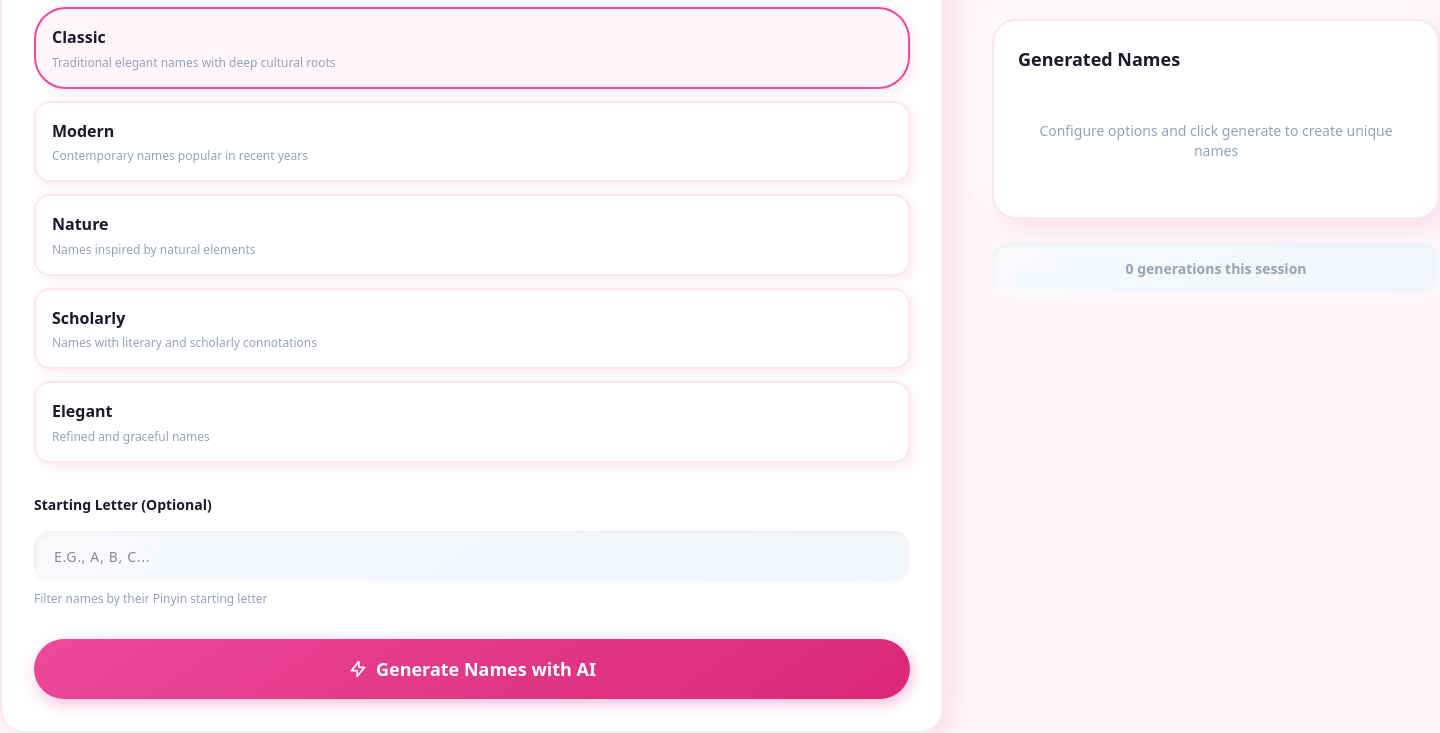
Test case: GeneratorForm › shows error message when API fails
(page scrolled)
Click the button "Generate Names with AI": (472, 669) [34,639,910,699]
(page scrolled)
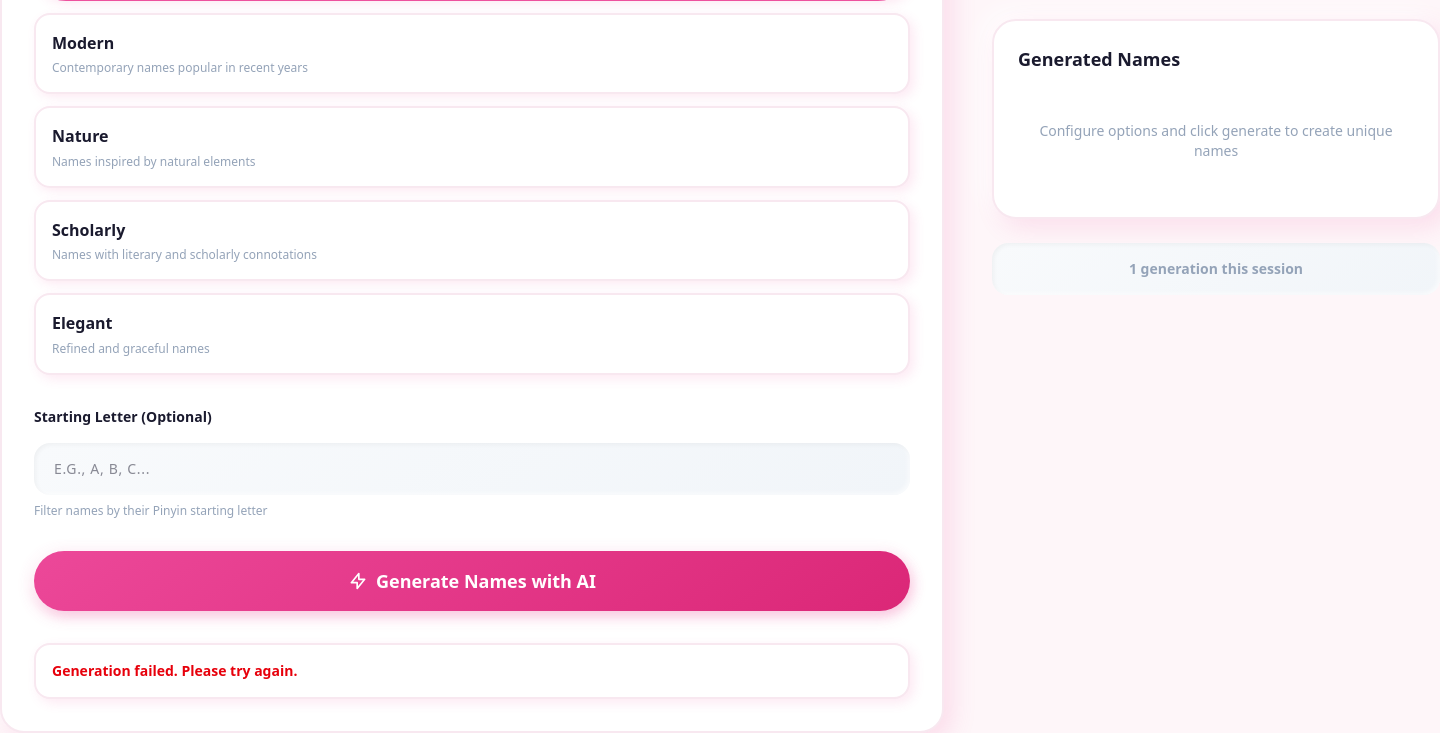
Check: the message "Generation failed. Please try again." is shown, box [34,643,910,699]
Check: the text "Generation failed. Please try again." is shown, box [52,661,297,680]
